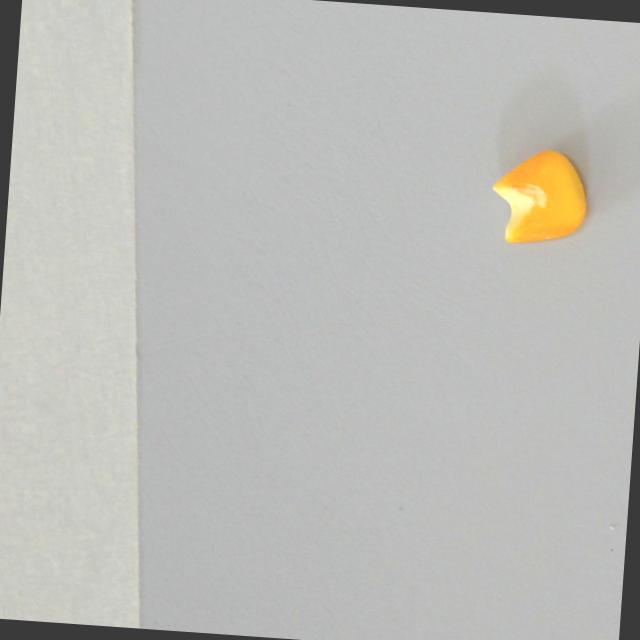no_canjicado: (486, 143, 591, 247)
